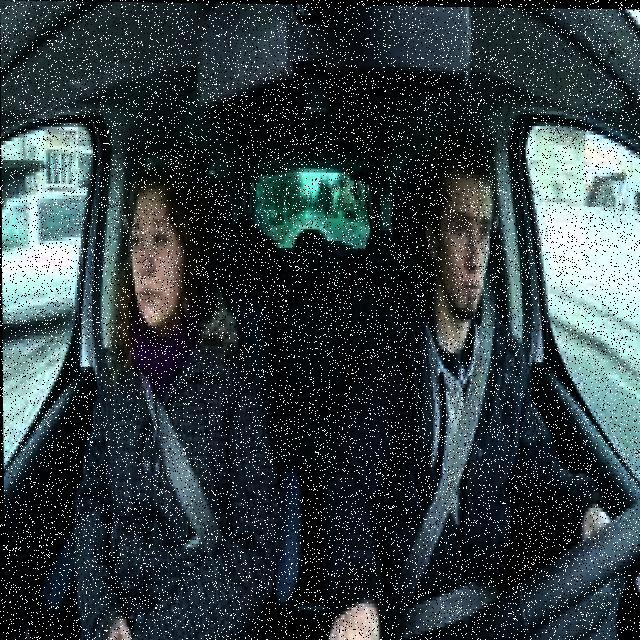seatbelt: (368, 305, 512, 635), (115, 364, 234, 580)
